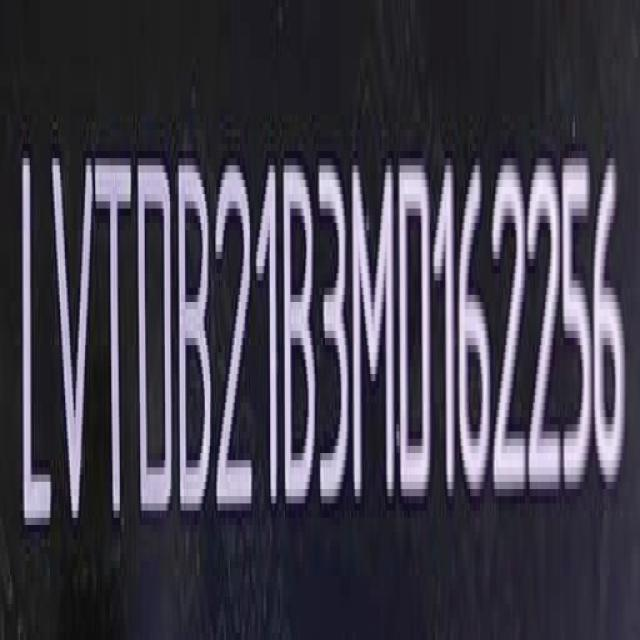1: (258, 164, 282, 523), (435, 152, 455, 512)
2: (216, 164, 256, 528), (495, 162, 529, 512), (528, 162, 562, 508)
3: (320, 160, 351, 521)
5: (562, 152, 592, 492)
6: (458, 159, 493, 509), (594, 153, 628, 491)
B: (179, 162, 216, 532), (285, 159, 319, 516)
D: (134, 157, 174, 533), (398, 157, 432, 512)
L: (16, 142, 50, 549)
M: (354, 158, 397, 518)
T: (98, 150, 136, 538)
V: (48, 147, 94, 544)
